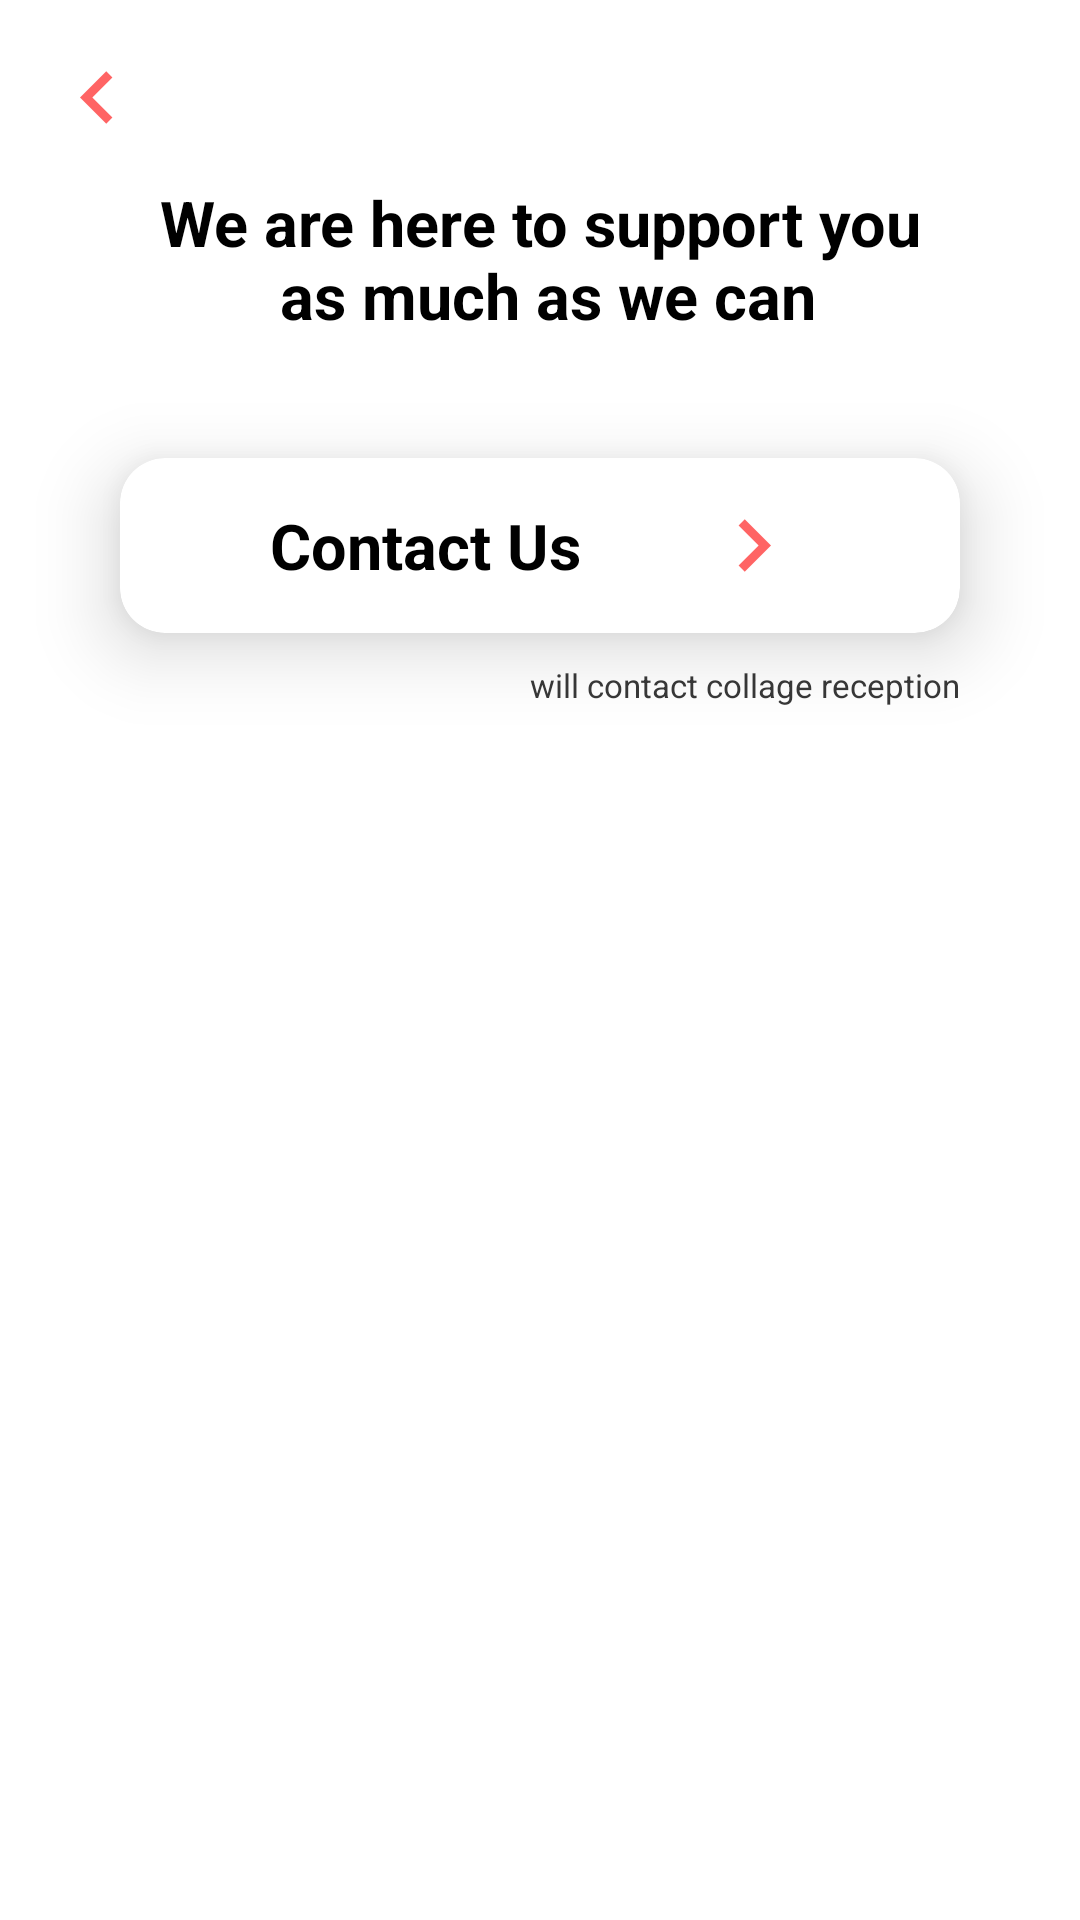

Screen size 1080w x 1920h. Icon name, then its center in pixels as (x=x, y=y):
arrow left: (x=96, y=97)
right: (x=755, y=545)
